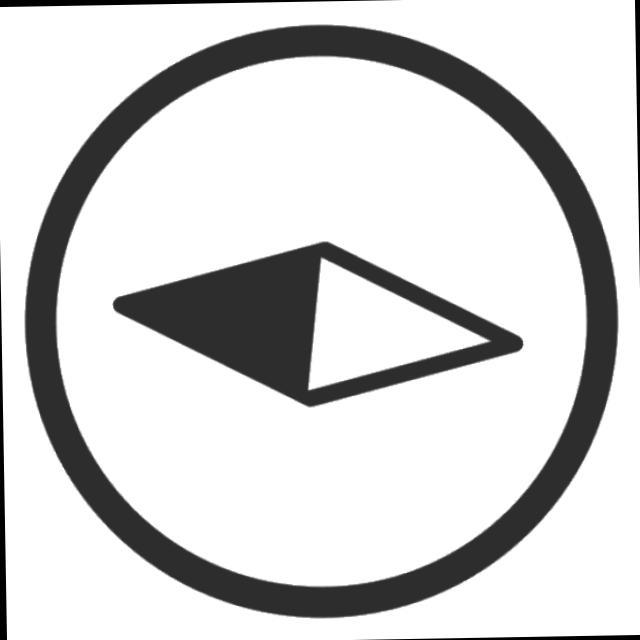compass: (10, 5, 633, 632)
